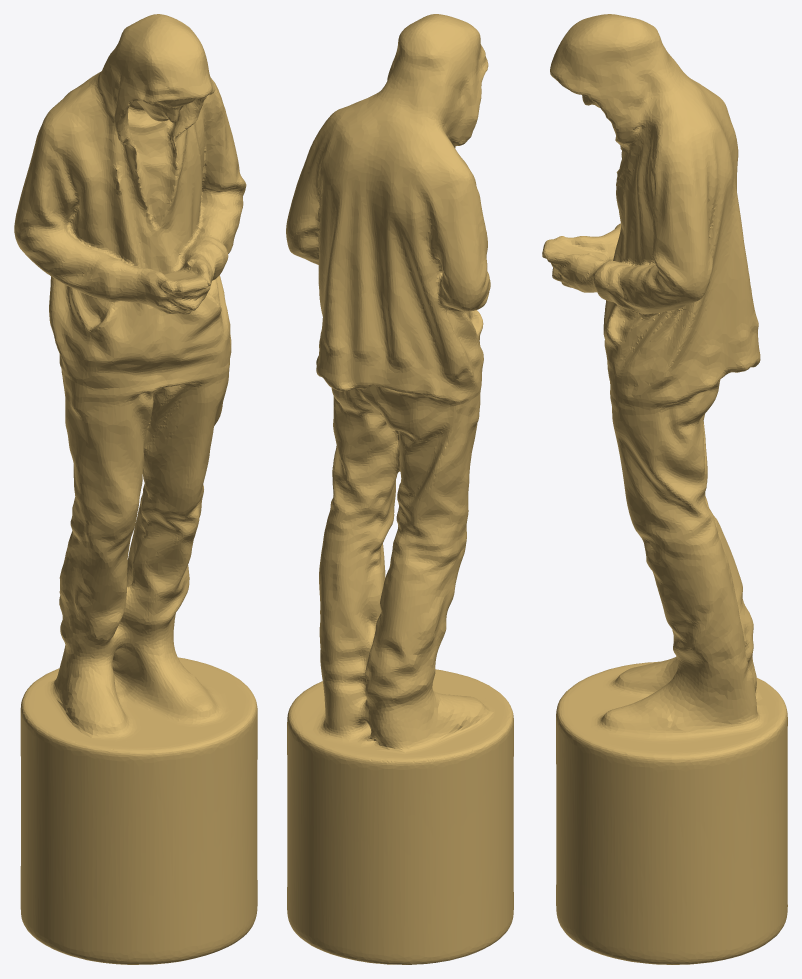
File: mikolajGold.gltf
3 renders of one model, left to right at view 1: azimuth 30°, elevation 25°; view 2: azimuth 150°, elevation 25°; view 3: azimuth 270°, elevation 25°, orthographic. The views are drawn at different scales.
Visible parts, largest first — view 1: Group16010; view 2: Group16010; view 3: Group16010.
Boxes of the visible parts, x1,y1,x2,y2 form: Group16010: (14, 14, 257, 964); Group16010: (286, 14, 513, 964); Group16010: (542, 14, 787, 964).
Bounding box in the file's own units: 1.25 × 5.13 × 1.27.
